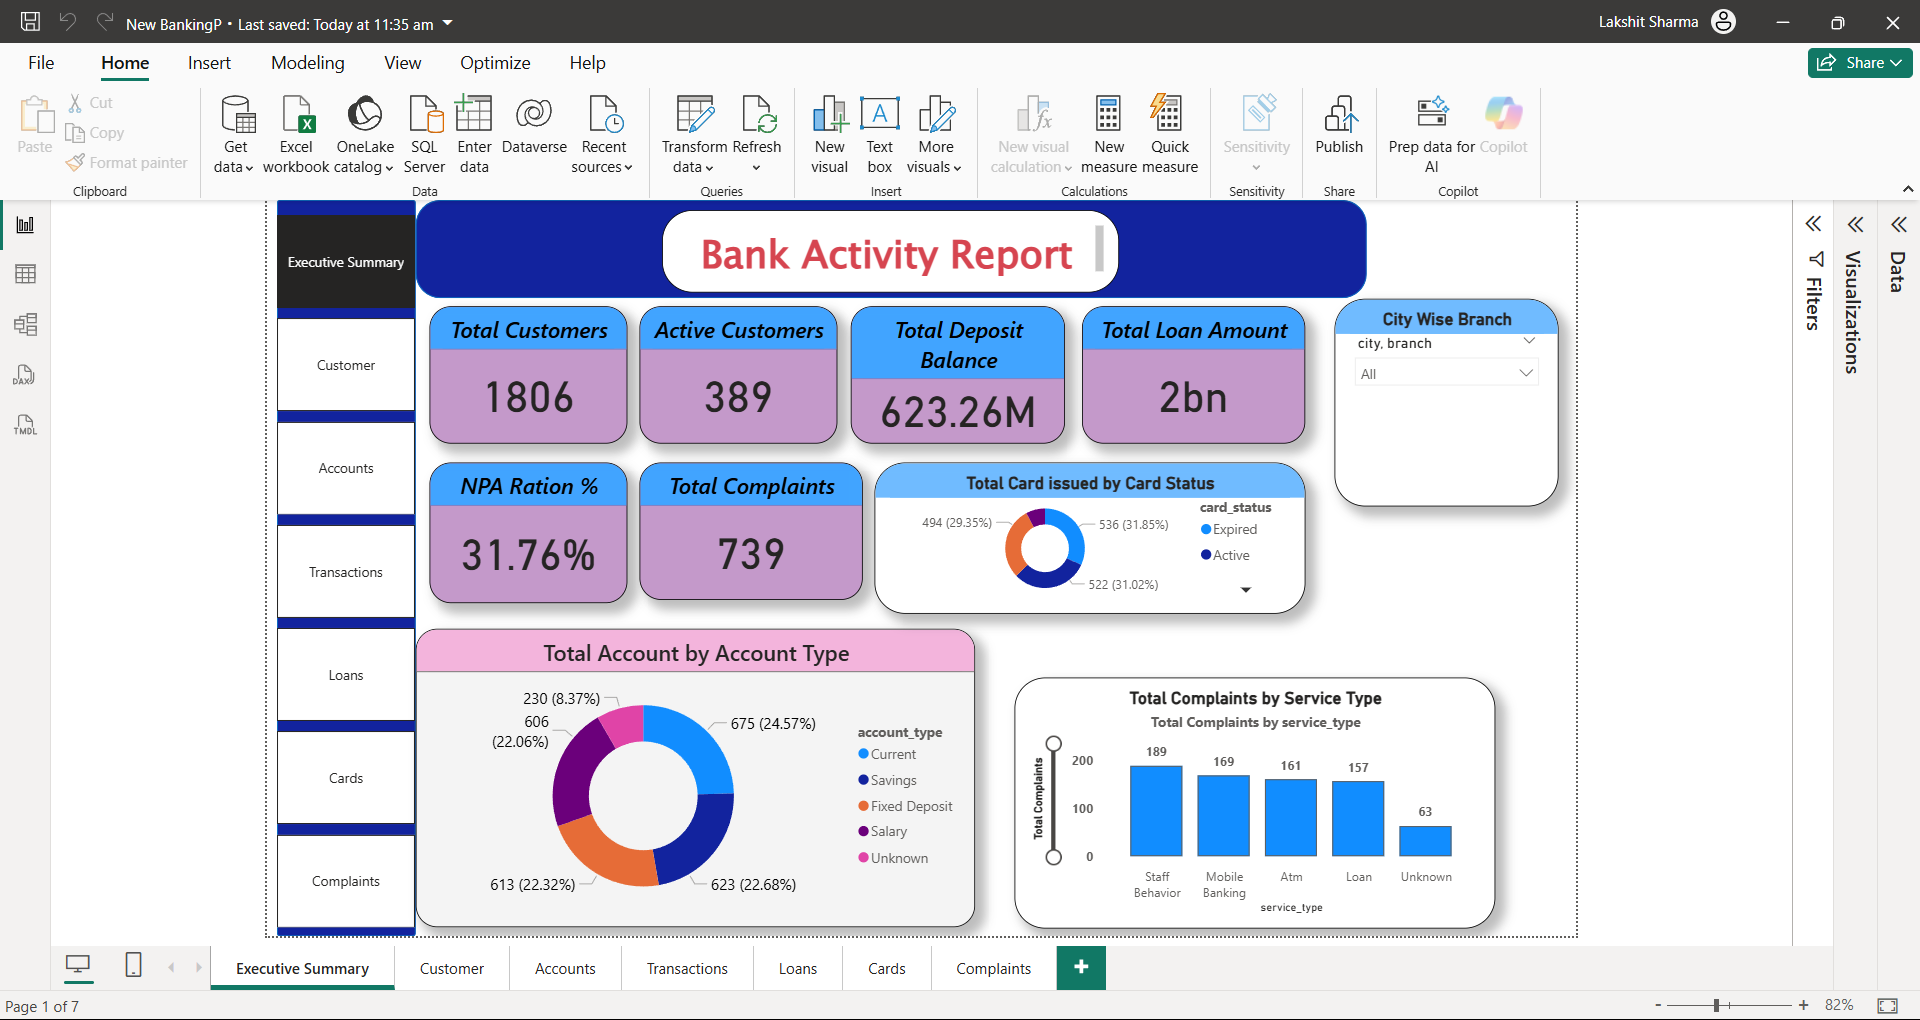

Layout of this report page (visuals, bound fields, positions):
{"tool":"powerbi","page":{"name":"Executive Summary","canvas":[1280,720],"ordinal":0},"visuals":[{"type":"shape","box":[145.5,0,930.4,96.1],"z":0},{"type":"shape","box":[9.8,0,135.7,720.2],"z":1000},{"type":"pageNavigator","box":[0,0,1000.3,49.4],"z":2000},{"type":"pageNavigator","box":[9.8,14.7,135.7,697],"z":3000},{"type":"textbox","box":[387,9.6,447.3,81],"z":4000},{"type":"card","title":"Total Customers","fields":{"Values":["All Measures.Total Customers"]},"box":[159.2,104.3,193.5,134.5],"z":5000},{"type":"card","title":"Active Customers","fields":{"Values":["All Measures.Active Customers"]},"box":[365,104.3,193.5,134.5],"z":6000},{"type":"card","title":"Total Deposit Balance","fields":{"Values":["All Measures.Total Deposit Balance"]},"box":[570.8,104.3,209.9,134.5],"z":7000},{"type":"card","title":"Total Loan Amount","fields":{"Values":["All Measures.Total Loan Amount"]},"box":[797.3,104.3,218.2,134.5],"z":8000},{"type":"card","title":"NPA Ratio %","fields":{"Values":["All Measures.NPA Ratio %"]},"box":[159.2,256.6,193.5,137.2],"z":9000},{"type":"card","title":"Total Complaints","fields":{"Values":["All Measures.Total Complaints"]},"box":[365,256.6,218.2,134.5],"z":10000},{"type":"slicer","title":"City Wise Branch","fields":{"Values":["customers.city","accounts.branch"]},"box":[1044.3,96.1,219.6,203.1],"z":11000},{"type":"donutChart","title":"Total Account by Account Type","fields":{"Y":["All Measures.Total Accounts"],"Category":["accounts.account_type"]},"box":[145.5,419.9,547.5,292.3],"z":12000},{"type":"columnChart","title":"Total Complaints by Service Type","fields":{"Y":["All Measures.Total Complaints"],"Category":["complaints.service_type"]},"box":[731.4,466.6,470.7,245.6],"z":13000},{"type":"donutChart","title":"Total Card issued by Card Status","fields":{"Y":["All Measures.Total Cards Issued"],"Category":["cards.card_status"]},"box":[594.2,256.6,421.3,148.2],"z":14000}]}

Visuals, with their boxes on the page's 1280x720 design canvas (x1, y1, x2, y2). These are canvas units, not pixel positions in the 1920x1020 screenshot, which may show the page scaled, cropped or inside an application window:
shape: <bbox>146, 0, 1076, 96</bbox>
shape: <bbox>10, 0, 146, 720</bbox>
pageNavigator: <bbox>0, 0, 1000, 49</bbox>
pageNavigator: <bbox>10, 15, 146, 712</bbox>
textbox: <bbox>387, 10, 834, 91</bbox>
"Total Customers" card: <bbox>159, 104, 353, 239</bbox>
"Active Customers" card: <bbox>365, 104, 558, 239</bbox>
"Total Deposit Balance" card: <bbox>571, 104, 781, 239</bbox>
"Total Loan Amount" card: <bbox>797, 104, 1016, 239</bbox>
"NPA Ratio %" card: <bbox>159, 257, 353, 394</bbox>
"Total Complaints" card: <bbox>365, 257, 583, 391</bbox>
"City Wise Branch" slicer: <bbox>1044, 96, 1264, 299</bbox>
"Total Account by Account Type" donutChart: <bbox>146, 420, 693, 712</bbox>
"Total Complaints by Service Type" columnChart: <bbox>731, 467, 1202, 712</bbox>
"Total Card issued by Card Status" donutChart: <bbox>594, 257, 1016, 405</bbox>
